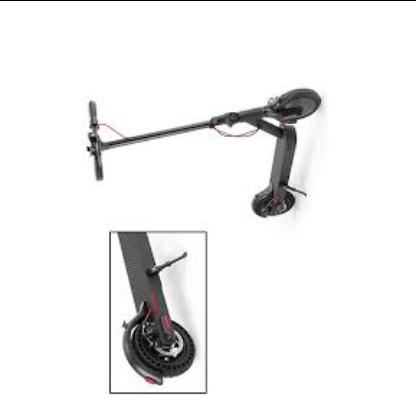bike: (86, 88, 323, 218), (121, 250, 196, 386)
